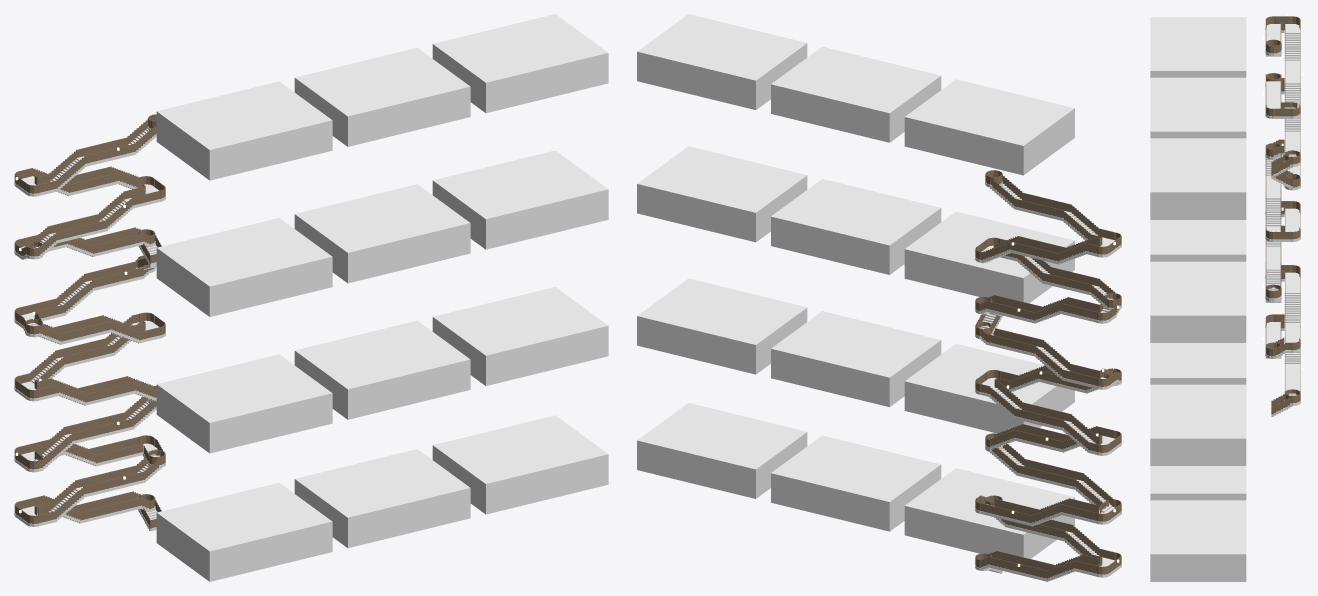
The picture shows the model from 3 angles, left to right: view 1: azimuth 30°, elevation 25°; view 2: azimuth 150°, elevation 25°; view 3: azimuth 270°, elevation 25°; orthographic projection. The views are drawn at different scales.
Visible parts, largest first — view 1: cliff_ceiling_rock_ceiling, cliff_wall_plaster, cliff_rail_rail, cliff_stair_wood, cliff_floor_stone_floor; view 2: cliff_ceiling_rock_ceiling, cliff_wall_plaster, cliff_rail_rail, cliff_stair_wood, cliff_floor_stone_floor; view 3: cliff_ceiling_rock_ceiling, cliff_wall_plaster, cliff_stair_wood, cliff_rail_rail, cliff_floor_stone_floor.
Boxes of the visible parts, x1,y1,x2,y2 form: cliff_ceiling_rock_ceiling: [156, 14, 608, 553]; cliff_wall_plaster: [156, 46, 608, 579]; cliff_rail_rail: [14, 114, 165, 528]; cliff_stair_wood: [14, 126, 165, 531]; cliff_floor_stone_floor: [156, 81, 608, 581]; cliff_ceiling_rock_ceiling: [637, 14, 1074, 536]; cliff_wall_plaster: [637, 46, 1074, 558]; cliff_rail_rail: [975, 170, 1121, 578]; cliff_stair_wood: [975, 181, 1121, 581]; cliff_floor_stone_floor: [637, 79, 1074, 558]; cliff_ceiling_rock_ceiling: [1150, 17, 1246, 556]; cliff_wall_plaster: [1150, 73, 1246, 579]; cliff_stair_wood: [1265, 24, 1300, 416]; cliff_rail_rail: [1265, 16, 1300, 414]; cliff_floor_stone_floor: [1150, 217, 1246, 581].
Bounding box in the file's own units: 67.36 × 53.85 × 19.16.
